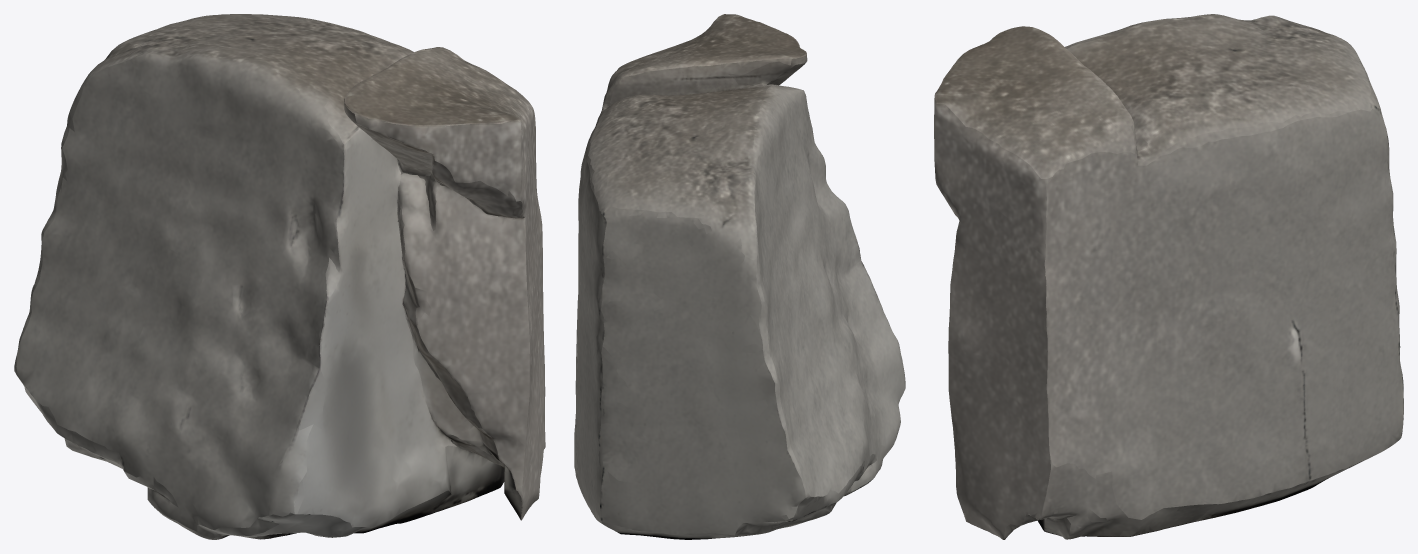
3 renders of one model, left to right at view 1: azimuth 30°, elevation 25°; view 2: azimuth 150°, elevation 25°; view 3: azimuth 270°, elevation 25°, orthographic. The views are drawn at different scales.
Parts seen in each view (by area): view 1: world; view 2: world; view 3: world.
Part boxes in pixels (x1,y1,x2,y2): world: (14,14,545,539); world: (574,14,905,539); world: (934,14,1403,539).
Bounding box in the file's own units: 0.18 × 0.1949 × 0.1936.
Materials: 1 (1 with a texture image).
